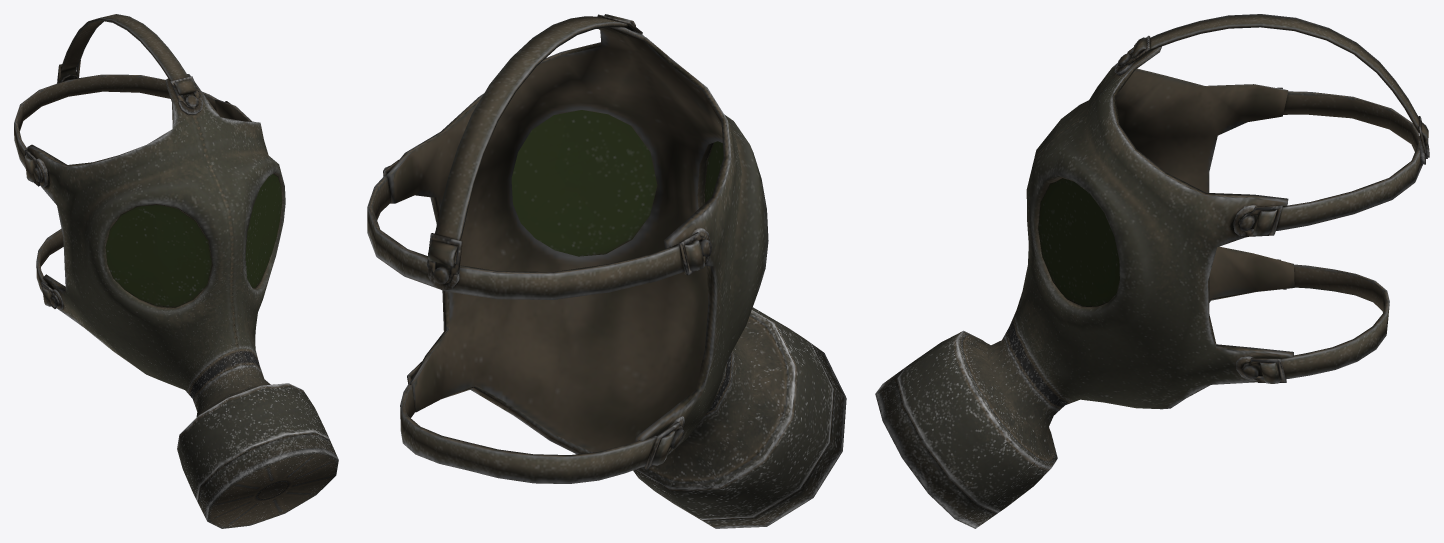
The model's file is Mask 2.FBX.
3 views of the same model, side by side, from view 1: azimuth 30°, elevation 25°; view 2: azimuth 150°, elevation 25°; view 3: azimuth 270°, elevation 25° (orthographic). The views are drawn at different scales.
Parts seen in each view (by area): view 1: Mask; view 2: Mask; view 3: Mask.
Boxes of the visible parts, box(x1,y1,x2,y2) form: Mask: box(14, 14, 338, 528); Mask: box(367, 14, 846, 528); Mask: box(875, 14, 1429, 528).
Bounding box in the file's own units: 325 × 609 × 605.
1 material, 1 textured.
